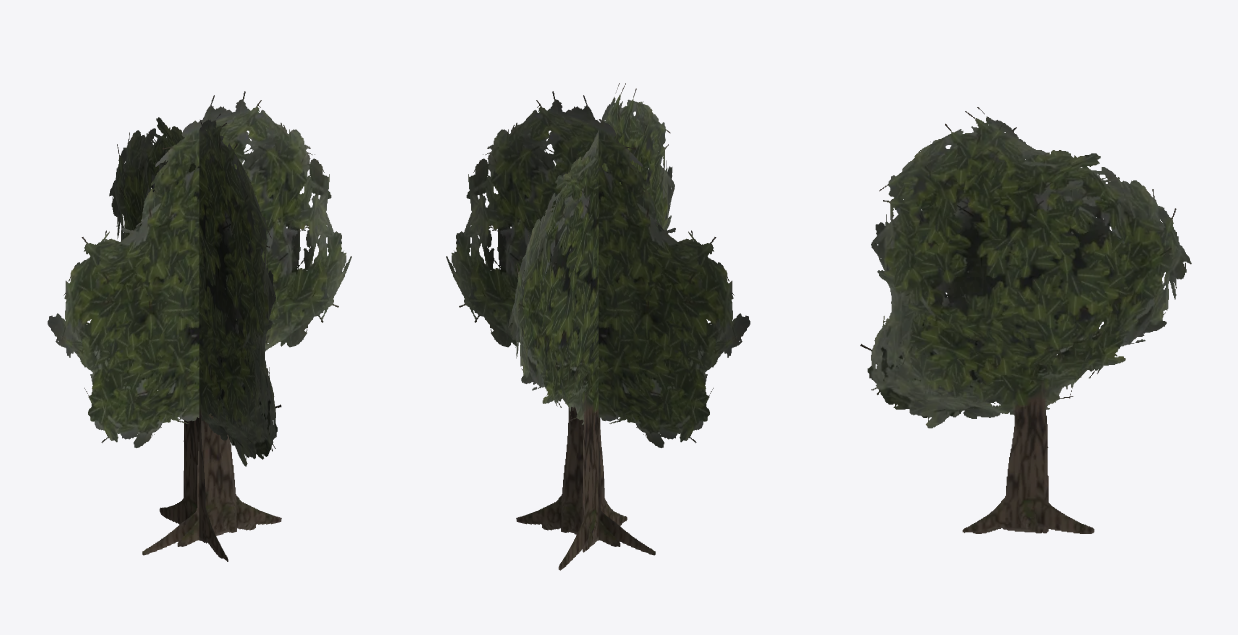
File: tree_oak_lod2.glb
The picture shows the model from 3 angles, left to right: view 1: azimuth 30°, elevation 25°; view 2: azimuth 150°, elevation 25°; view 3: azimuth 270°, elevation 25°; orthographic projection. The views are drawn at different scales.
Visible parts, largest first — view 1: tree_oak_impostor; view 2: tree_oak_impostor; view 3: tree_oak_impostor.
Boxes of the visible parts, x1,y1,x2,y2 form: tree_oak_impostor: [47, 91, 351, 561]; tree_oak_impostor: [446, 83, 750, 570]; tree_oak_impostor: [860, 107, 1191, 533].
Size of the model in its own units: 5.07 by 5.89 by 5.07.
1 material, 1 textured.
